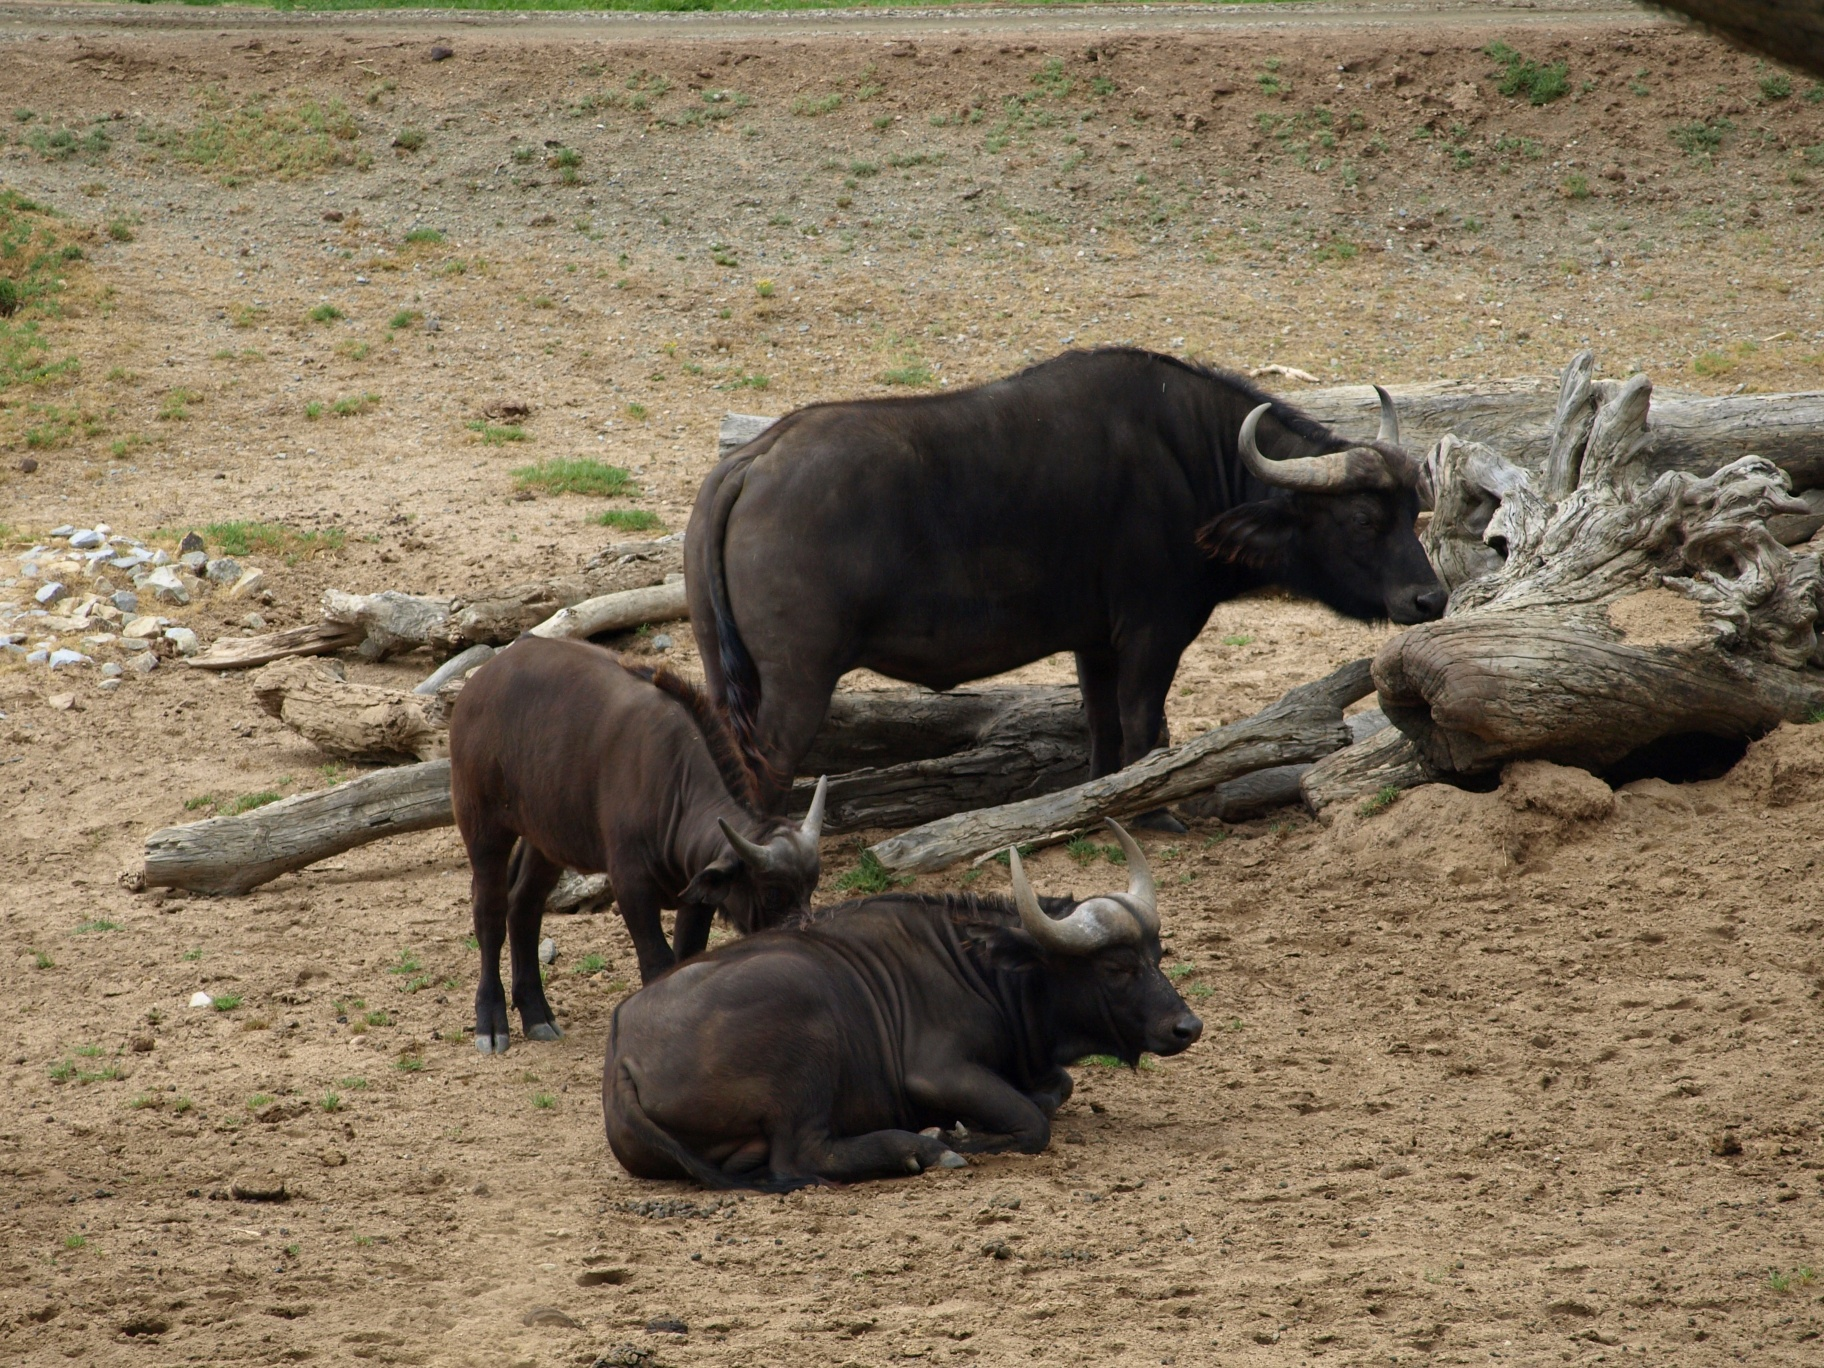buffalo: (675, 338, 1441, 856), (595, 816, 1202, 1198), (445, 628, 832, 1058)
